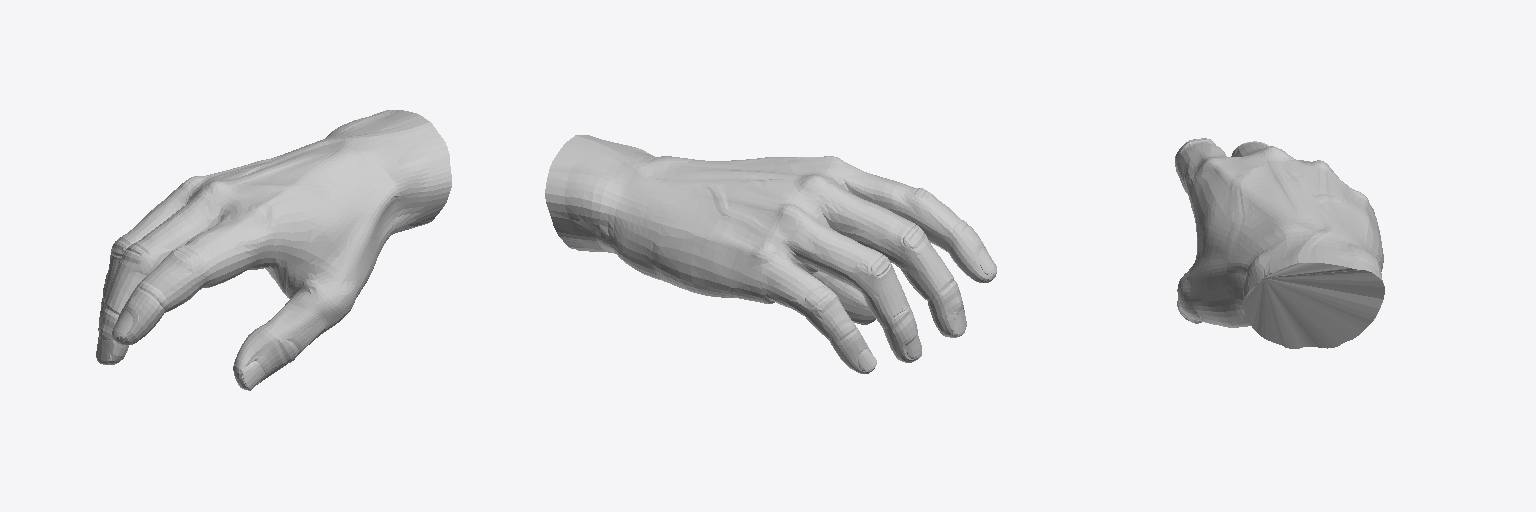
Rendered from hand_00tri.obj.
3 renders of one model, left to right at view 1: azimuth 30°, elevation 25°; view 2: azimuth 150°, elevation 25°; view 3: azimuth 270°, elevation 25°, orthographic.
Visible parts, largest first — view 1: Figure_2; view 2: Figure_2; view 3: Figure_2.
Part boxes in pixels (x1,y1,x2,y2): Figure_2: (96,110,451,390); Figure_2: (545,135,996,373); Figure_2: (1175,138,1384,348).
Size of the model in its own units: 0.8151 by 0.3683 by 0.4019.